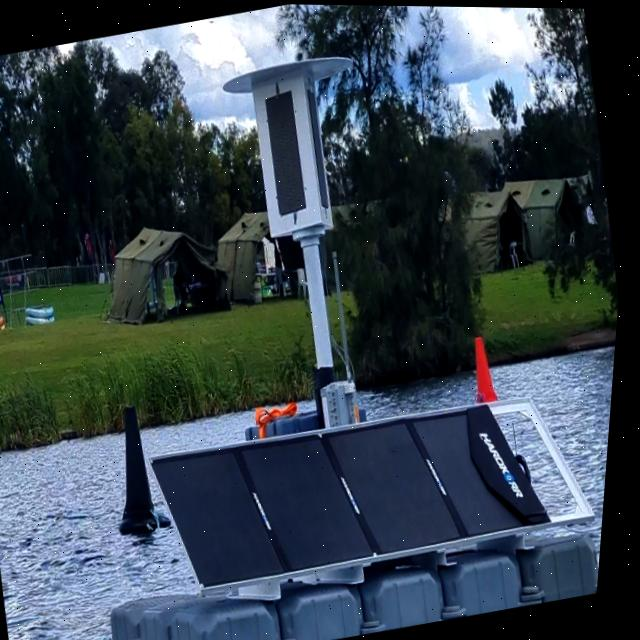led: (250, 78, 328, 227)
